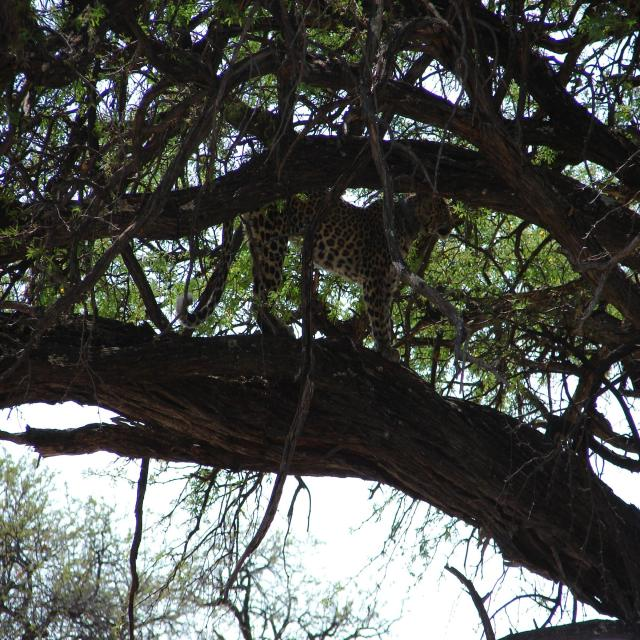Leopard: (188, 173, 447, 373)
